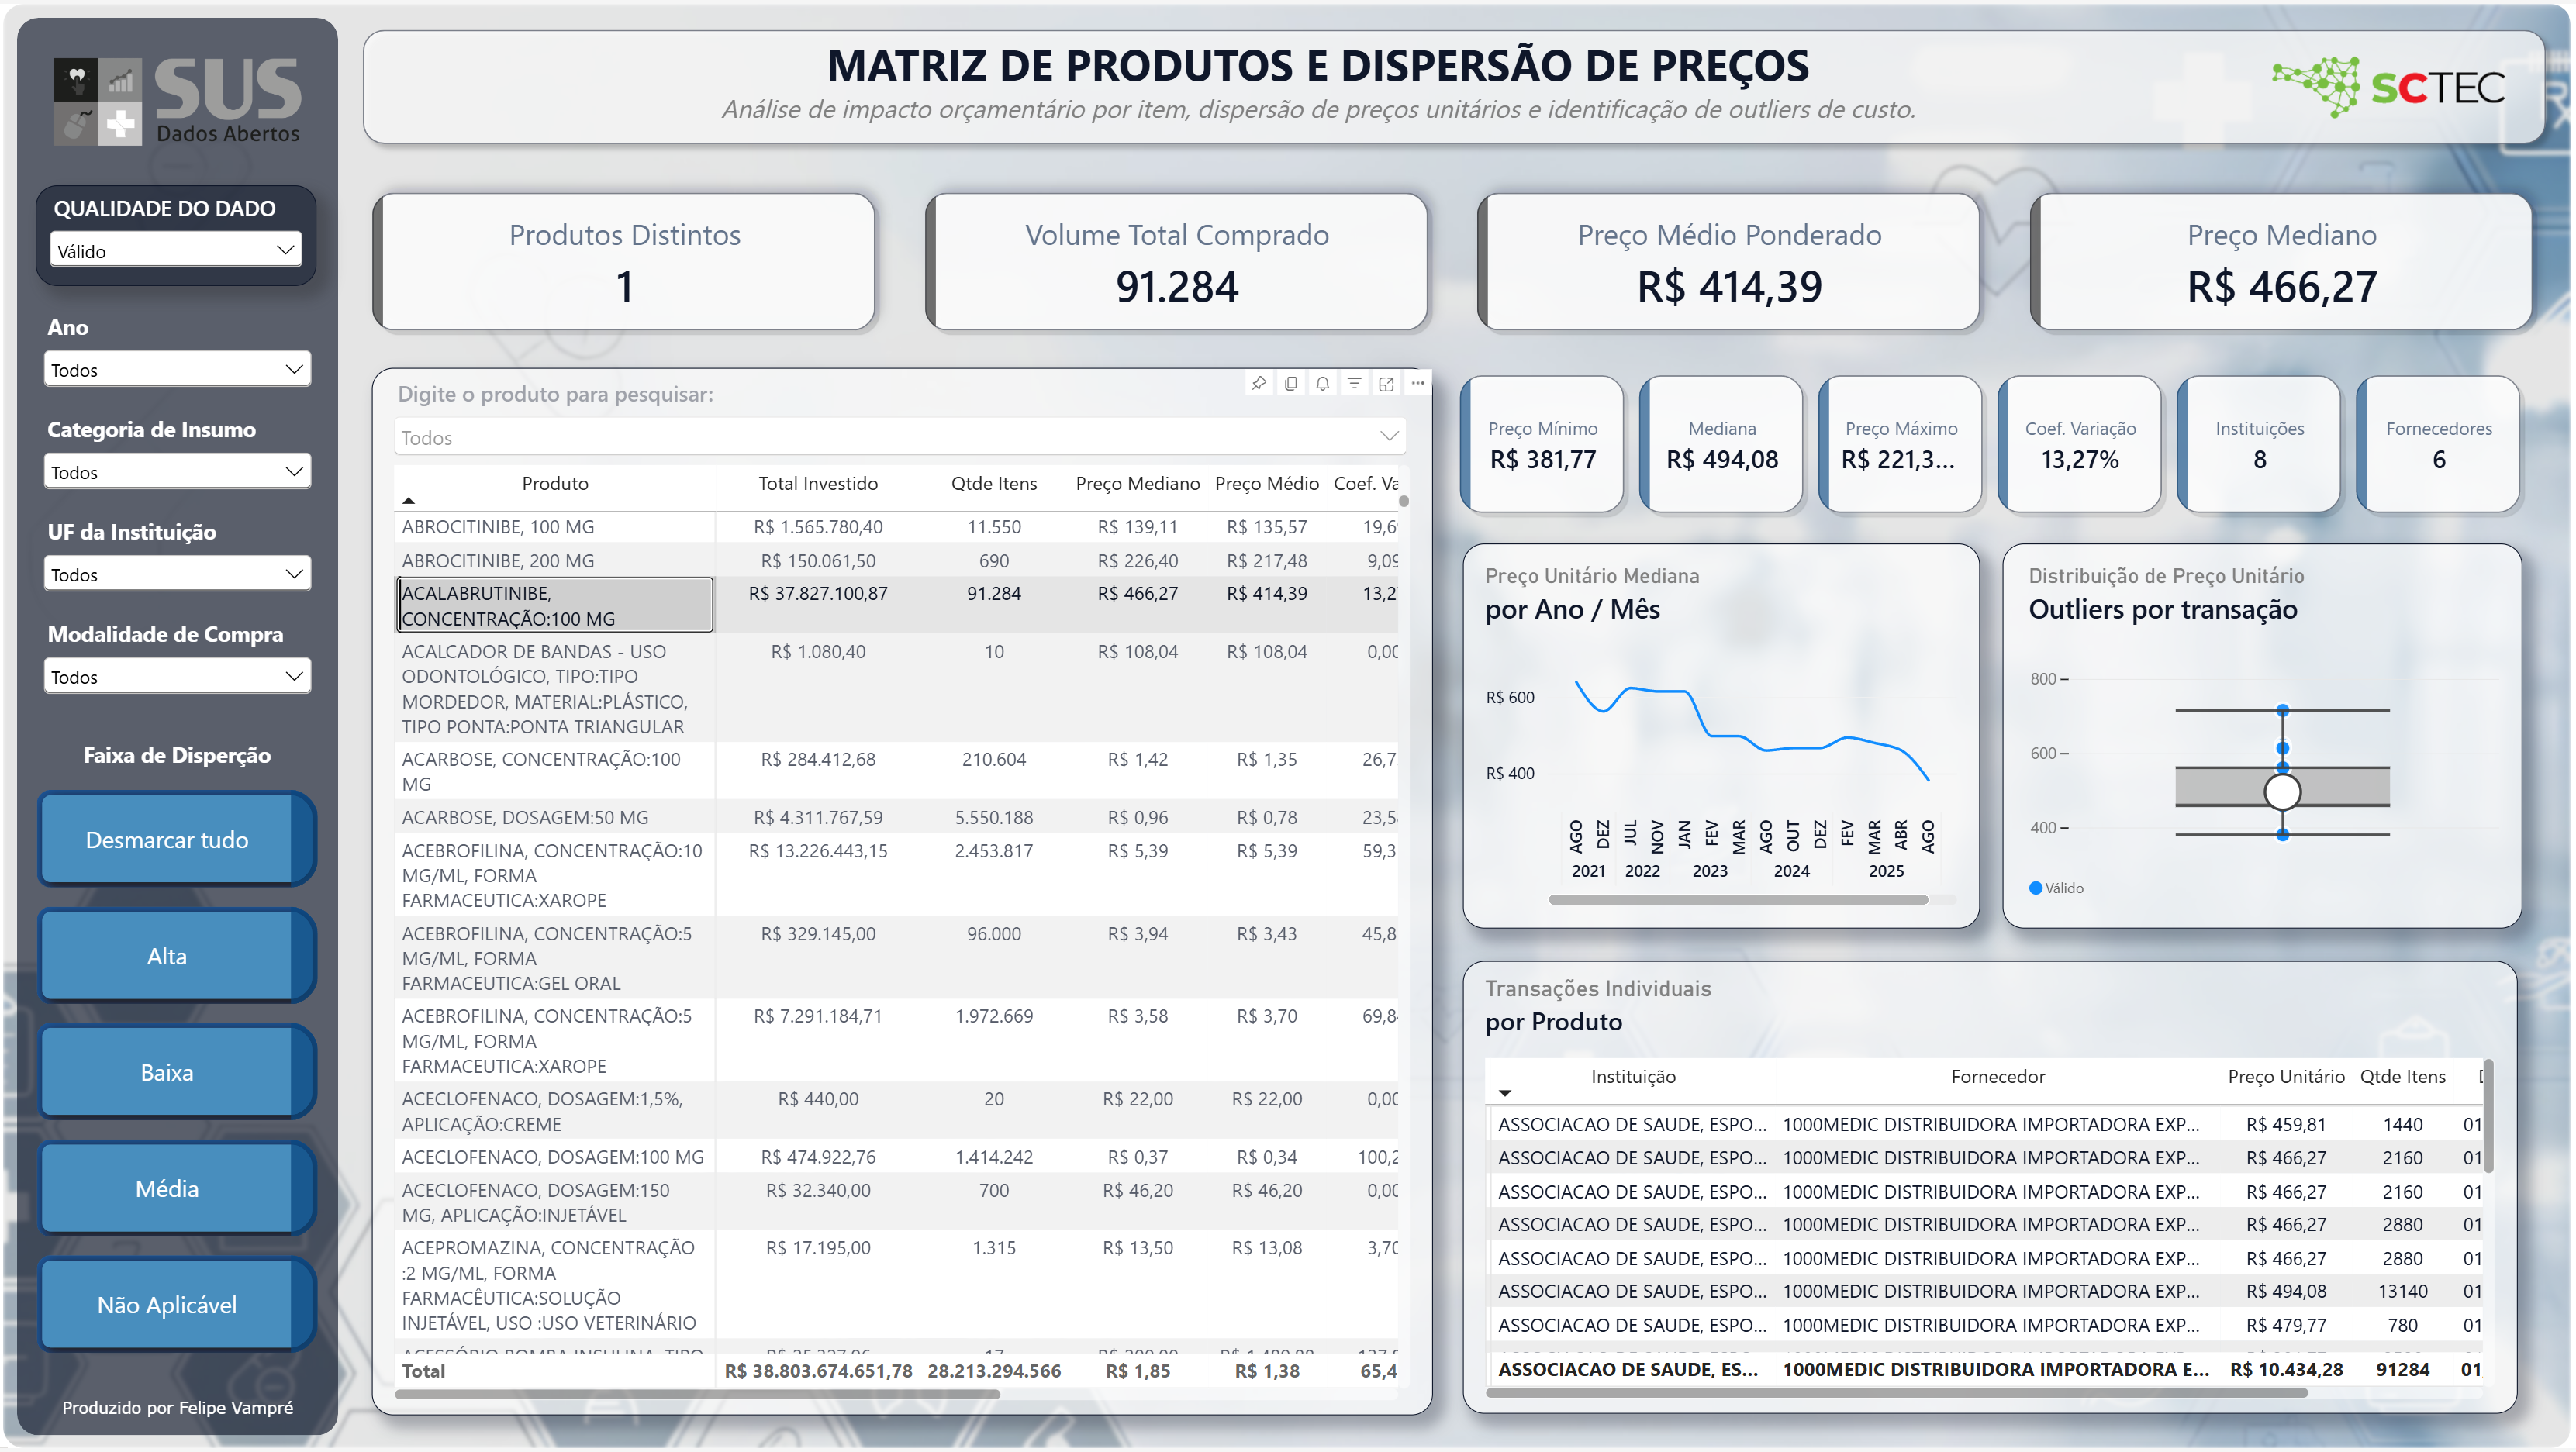

The page's visual inventory and layout, read from the dashboard file:
{"tool":"powerbi","page":{"name":"3. Matriz de Produtos e Dispersão de Preços","canvas":[1920,1080],"ordinal":3},"visuals":[{"type":"image","box":[0,0,1920,1080],"z":0},{"type":"shape","box":[260,10,1650,103.3],"z":2000},{"type":"textbox","box":[276.7,22.2,1413.3,72.2],"z":3000},{"type":"shape","box":[10,10,240,1060],"z":4000},{"type":"cardVisual","fields":{"Data":["_Medidas.Total_Produtos","_Medidas.Total_Qtd_Itens","_Medidas.Preco_Medio_Ponderado","_Medidas.Preco_Unitario_Mediana"]},"box":[260,125.6,1650,135.6],"z":5000},{"type":"image","box":[1690,22.2,190,80],"z":6000},{"type":"image","box":[25.6,27.8,210,91.1],"z":7000},{"type":"textbox","box":[26,1039,209,31],"z":8000},{"type":"slicer","title":"Ano","fields":{"Values":["dim_calendario.nr_ano","dim_calendario.nm_mes"]},"box":[25,230,210,80],"z":9000},{"type":"slicer","fields":{"Values":["dim_produto.categoria_insumo"]},"box":[25.6,306.7,210,80],"z":10000},{"type":"slicer","fields":{"Values":["dim_instituicao.uf"]},"box":[25,383.3,210,80],"z":11000},{"type":"slicer","fields":{"Values":["fato_compras.modalidade_compra"]},"box":[25,460,210,80],"z":12000},{"type":"slicer","title":"Ano","fields":{"Values":["fato_compras.flag_qualidade_dado"]},"box":[23.9,135.2,209.9,75],"z":13000},{"type":"advancedSlicerVisual","title":"Faixa de Disperção","fields":{"Values":["fato_compras.faixa_dispersao_preco"]},"box":[25.6,550,210,460],"z":14000},{"type":"pivotTable","title":" ","fields":{"Rows":["dim_produto.descricao_catmat"],"Values":["_Medidas.Total_Gasto","_Medidas.Total_Qtd_Itens","_Medidas.Preco_Unitario_Mediana","_Medidas.Preco_Medio_Ponderado","_Medidas.Coeficiente_Variacao_Produto","_Medidas.Faixa_Dispersao_Preco_Geral","_Medidas.Qtd. Transações Suspeitas"]},"box":[275.6,272.2,793.3,783.3],"z":15000},{"type":"slicer","title":"Ano","fields":{"Values":["dim_produto.descricao_catmat"]},"box":[286.7,280,767.8,80],"z":16000},{"type":"cardVisual","fields":{"Data":["_Medidas.Prod_Preco_Minimo_Padrao","_Medidas.Prod_Preco_Mediano_Padrao","_Medidas.Prod_Preco_Maximo_Padrao","_Medidas.Prod_Coeficiente_Variacao","_Medidas.Total_Instituicoes","_Medidas.Total_Fornecedores"]},"box":[1083.3,272.2,805.6,114.4],"z":17000},{"type":"lineChart","title":"Preço Unitário Mediana","fields":{"Category":["dim_calendario.dt_completa.Variation.Hierarquia de datas.Ano","dim_calendario.nm_mes"],"Y":["_Medidas.Preco_Unitario_Mediana"]},"box":[1091.1,403.3,386.7,287.8],"z":18000},{"type":"BoxandWhiskerByMAQ1823AD39DT234AB532063E128AX","title":"Distribuição de Preço Unitário","fields":{"categoryColor":["fato_compras.flag_qualidade_dado"],"category":["fato_compras.Índice"],"measure":["Sum(fato_compras.preco_unitario)"]},"box":[1494.4,403.3,388.9,287.8],"z":19000},{"type":"pivotTable","title":" Transações Individuais","fields":{"Rows":["fato_compras.Índice"],"Values":["Min(dim_instituicao.nome_instituicao)","Min(dim_fornecedor.fornecedor)","Sum(fato_compras.preco_unitario)","Sum(fato_compras.qtd_itens_comprados)","Min(dim_calendario.ds_periodo)","Min(fato_compras.flag_qualidade_dado)"]},"box":[1091.1,715.6,788.9,338.9],"z":20000}]}

Visuals, with their boxes in screenshot pixels (x1, y1, x2, y2), scaled from the page's 1920x1080 canvas onto the 2576x1452 screenshot:
image: <region>0, 0, 2575, 1451</region>
shape: <region>349, 13, 2563, 152</region>
textbox: <region>371, 30, 2267, 127</region>
shape: <region>13, 13, 336, 1439</region>
cardVisual - _Medidas.Total_Produtos x _Medidas.Total_Qtd_Itens: <region>349, 169, 2563, 351</region>
image: <region>2267, 30, 2522, 137</region>
image: <region>34, 37, 316, 160</region>
textbox: <region>35, 1397, 316, 1439</region>
"Ano" slicer: <region>33, 309, 316, 417</region>
slicer - dim_produto.categoria_insumo: <region>34, 412, 316, 520</region>
slicer - dim_instituicao.uf: <region>33, 516, 316, 623</region>
slicer - fato_compras.modalidade_compra: <region>33, 619, 316, 726</region>
"Ano" slicer: <region>32, 181, 314, 283</region>
"Faixa de Disperção" advancedSlicerVisual: <region>34, 740, 316, 1358</region>
" " pivotTable: <region>370, 366, 1434, 1419</region>
"Ano" slicer: <region>385, 377, 1415, 484</region>
cardVisual - _Medidas.Prod_Preco_Minimo_Padrao x _Medidas.Prod_Preco_Mediano_Padrao: <region>1453, 366, 2534, 519</region>
"Preço Unitário Mediana" lineChart: <region>1464, 542, 1983, 929</region>
"Distribuição de Preço Unitário" BoxandWhiskerByMAQ1823AD39DT234AB532063E128AX: <region>2005, 542, 2527, 929</region>
" Transações Individuais" pivotTable: <region>1464, 962, 2522, 1418</region>
